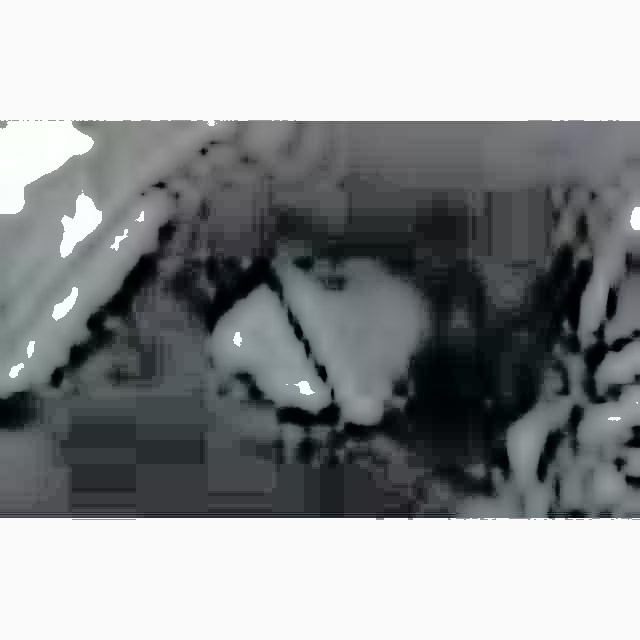pakai: (190, 216, 424, 424)
